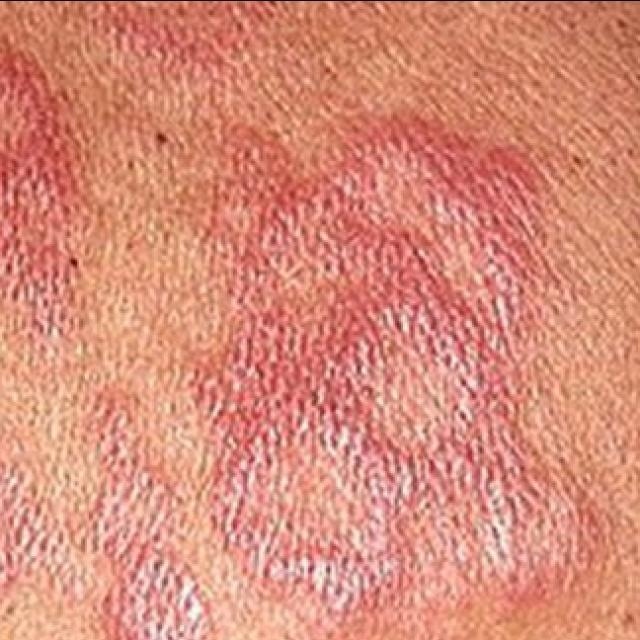Leprosy: (204, 113, 600, 626), (74, 380, 205, 640), (0, 11, 81, 368), (82, 0, 296, 79), (0, 417, 73, 612)
